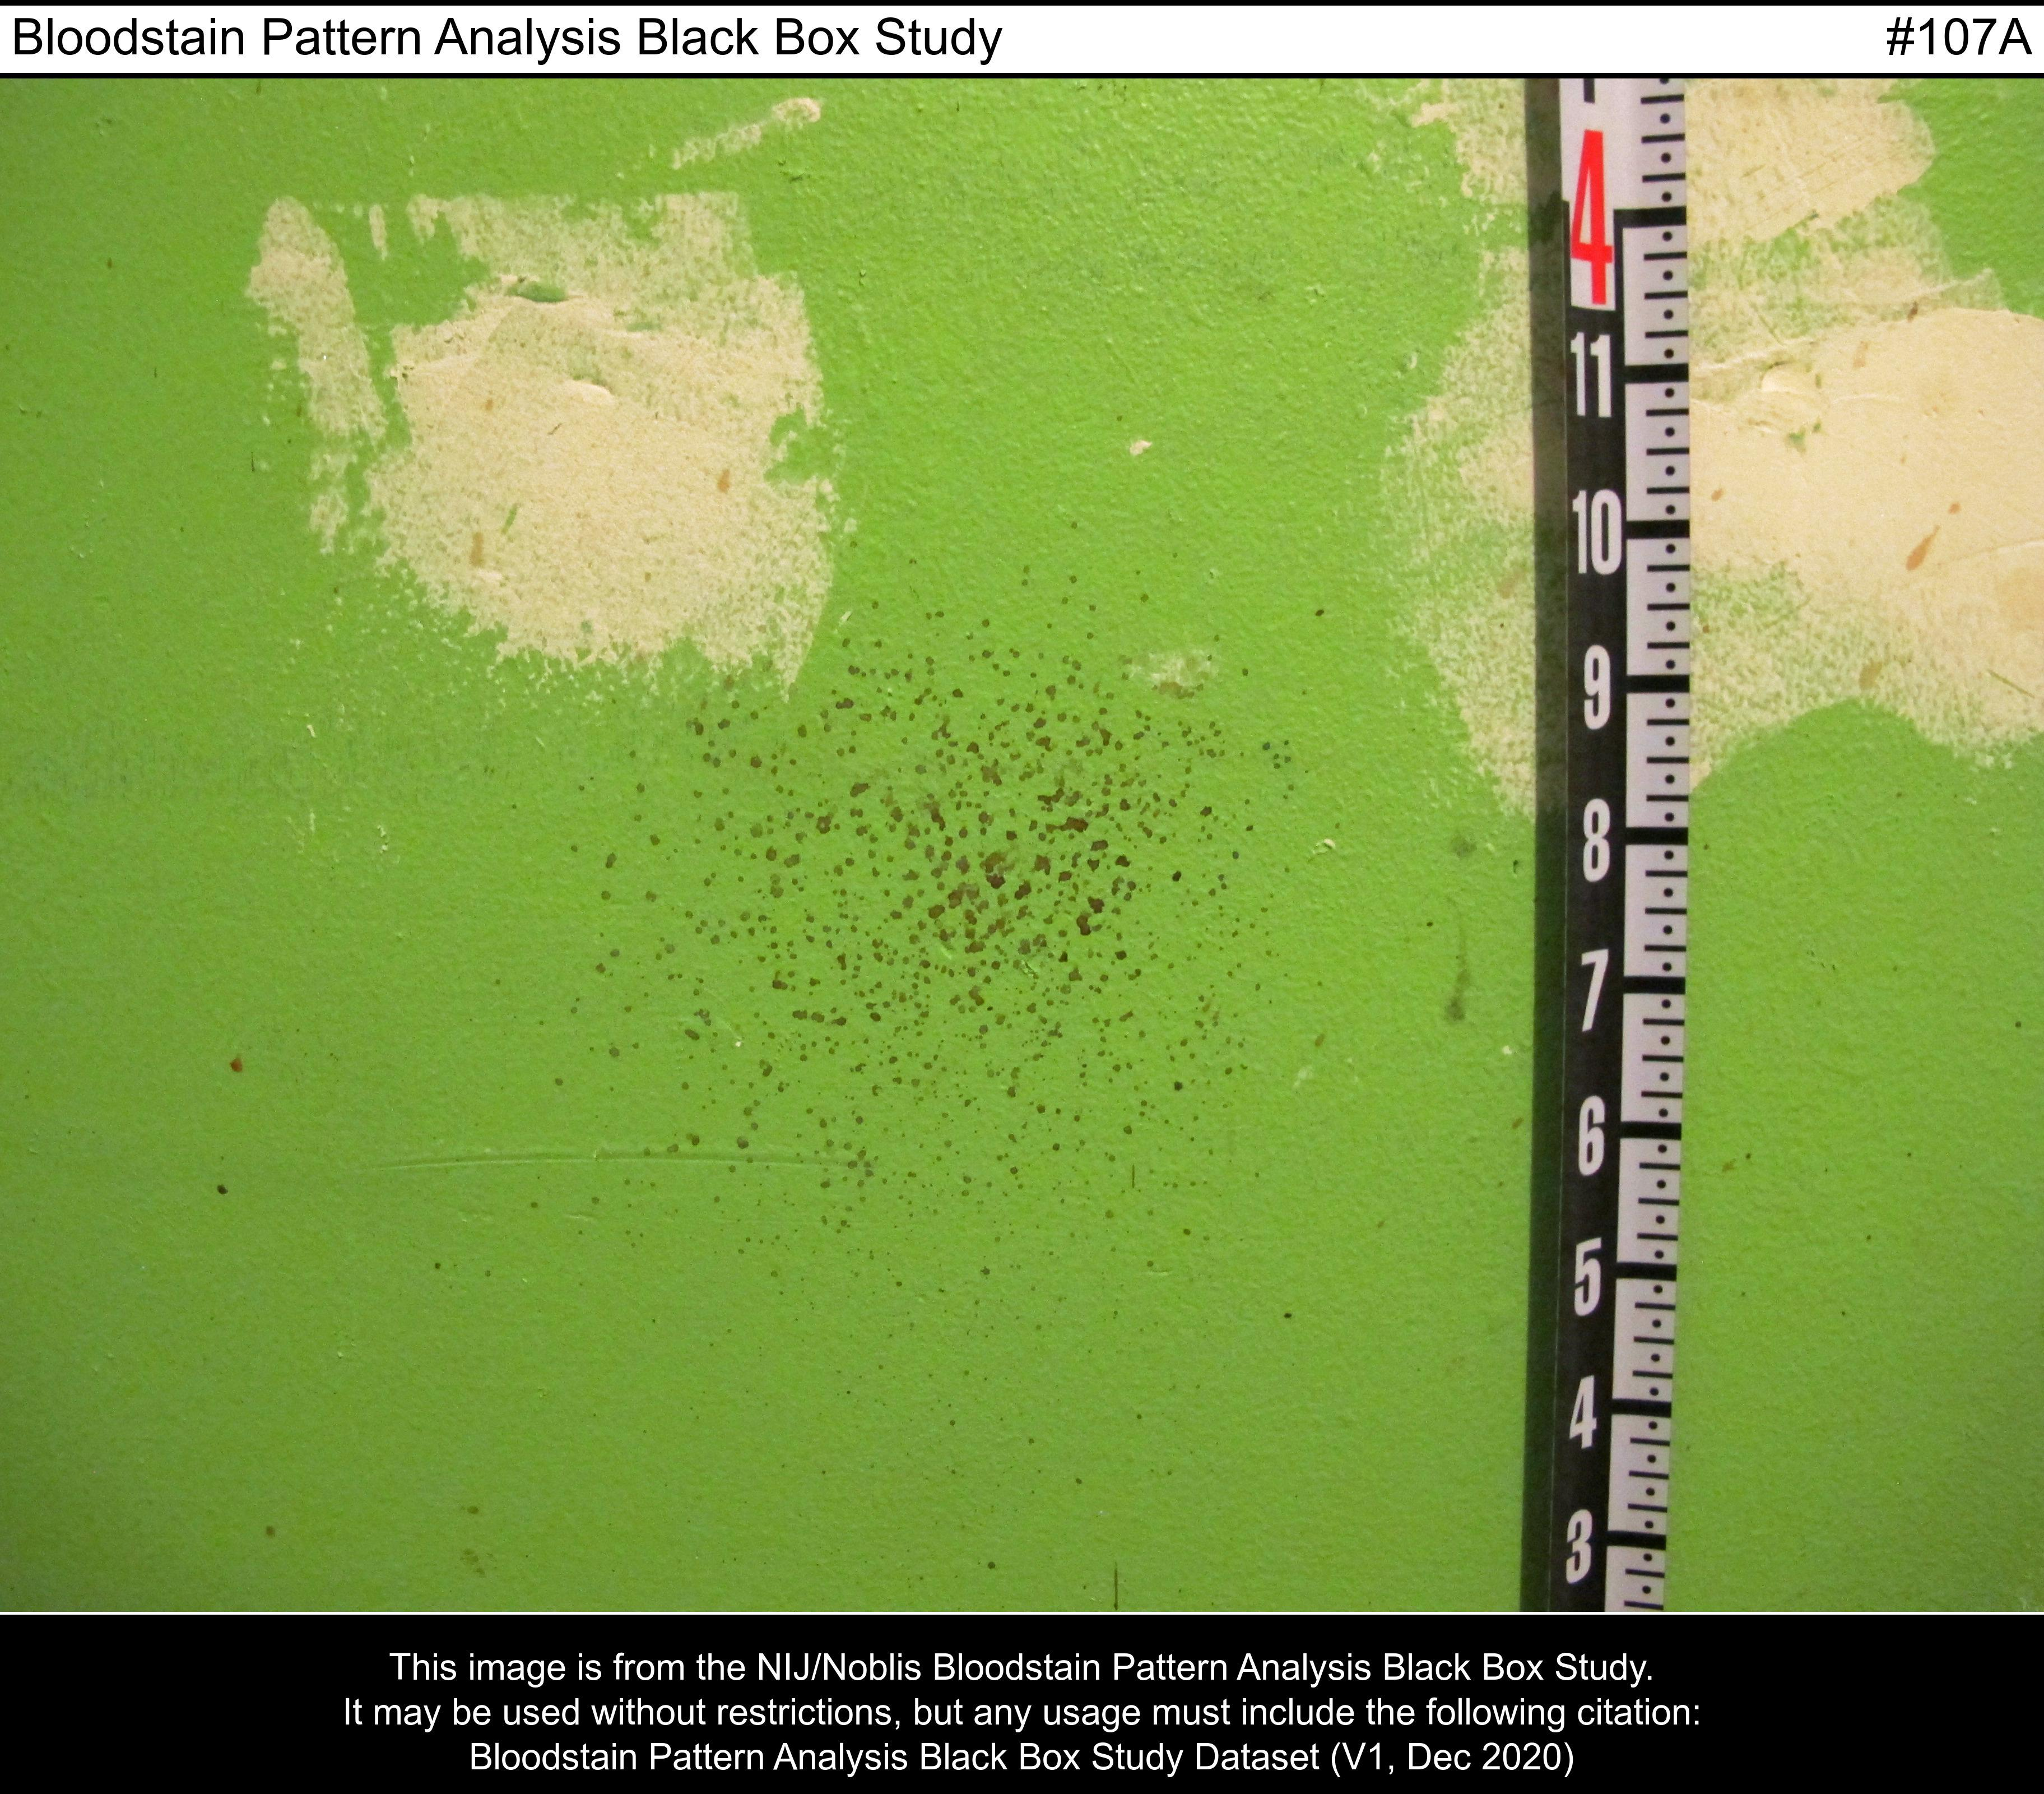Impact: (561, 567, 1384, 1299)
